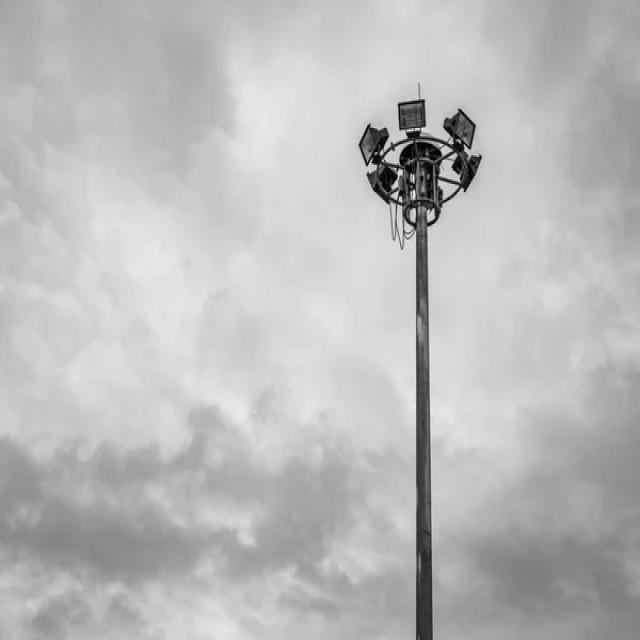Pole: (361, 52, 487, 640)
